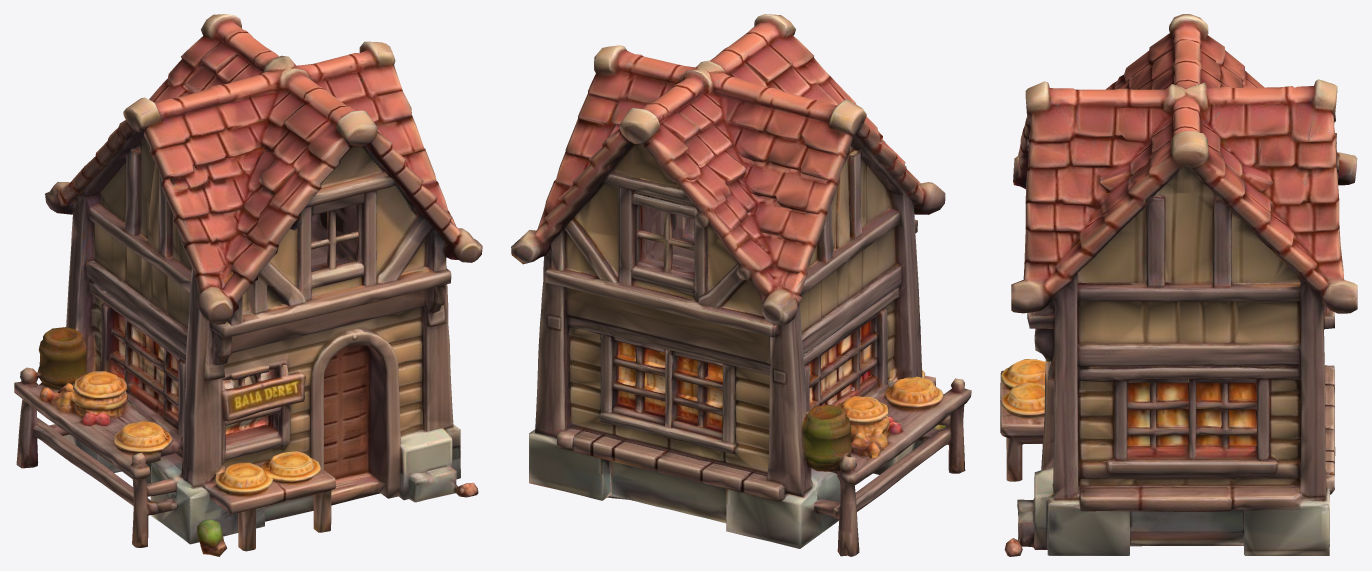
Rendered from special1.glb.
The picture shows the model from 3 angles, left to right: view 1: azimuth 30°, elevation 25°; view 2: azimuth 150°, elevation 25°; view 3: azimuth 270°, elevation 25°; orthographic projection. The views are drawn at different scales.
Visible parts, largest first — view 1: Mesh_0; view 2: Mesh_0; view 3: Mesh_0.
Boxes of the visible parts, x1,y1,x2,y2 form: Mesh_0: (14,14,482,556); Mesh_0: (511,14,971,556); Mesh_0: (1000,14,1357,556).
Size of the model in its own units: 1.64 by 1.91 by 1.47.
1 material, 1 textured.
